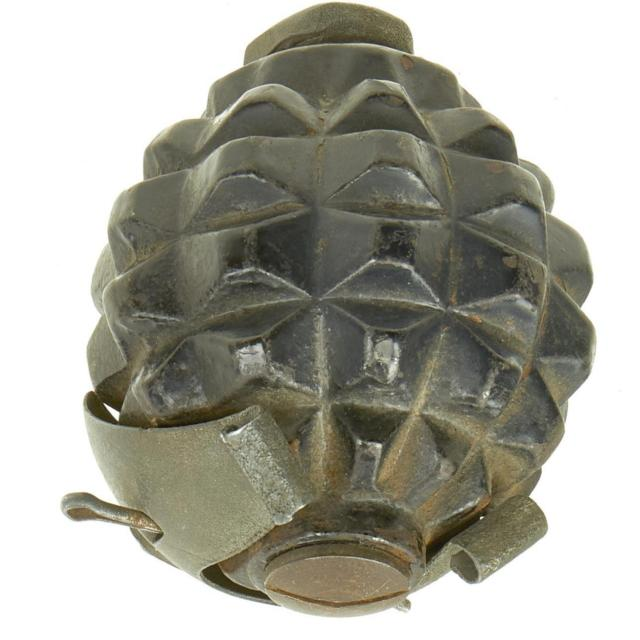grenade: (61, 2, 598, 620)
